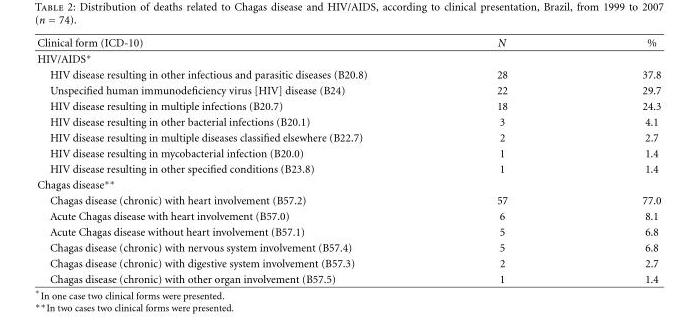table: (36, 36, 660, 284)
table column: (36, 36, 431, 284), (431, 36, 574, 284), (574, 36, 660, 284)
table column header: (36, 36, 660, 50)
table projected row header: (36, 50, 660, 66), (36, 176, 660, 192)
table row: (36, 50, 660, 66), (36, 66, 660, 82), (36, 97, 660, 113), (36, 113, 660, 129), (36, 129, 660, 145), (36, 160, 660, 176), (36, 176, 660, 192), (36, 207, 660, 223), (36, 223, 660, 239), (36, 239, 660, 255), (36, 82, 660, 97), (36, 145, 660, 160), (36, 192, 660, 207), (36, 255, 660, 270), (36, 36, 660, 50), (36, 270, 660, 284)
